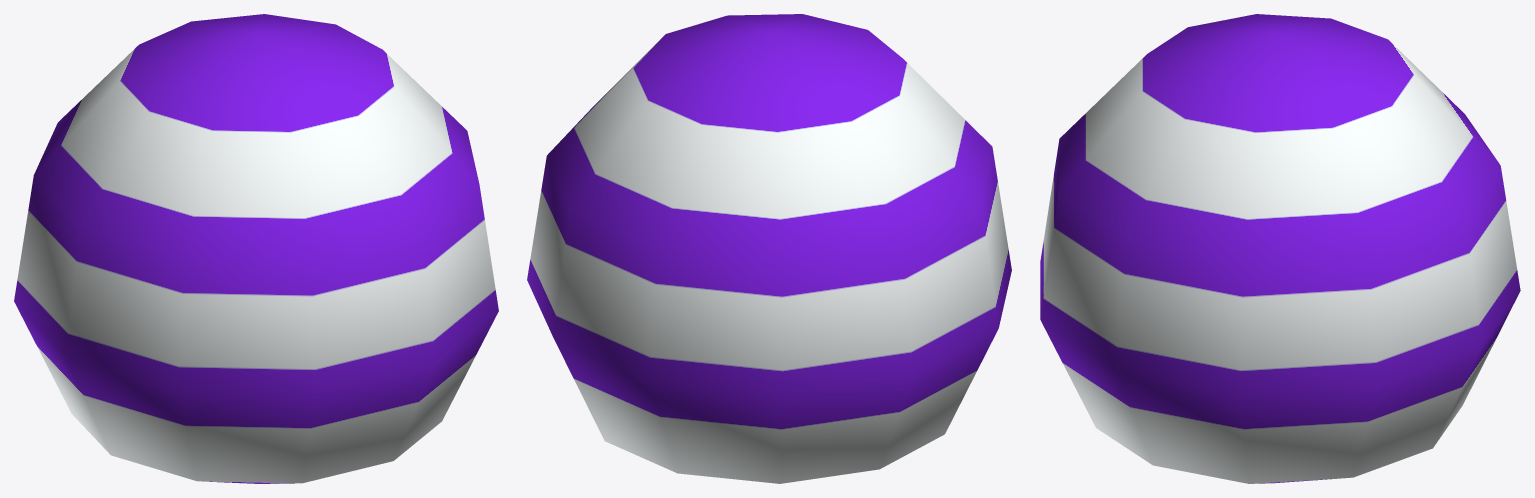
File: Bullets_01.FBX
3 renders of one model, left to right at view 1: azimuth 30°, elevation 25°; view 2: azimuth 150°, elevation 25°; view 3: azimuth 270°, elevation 25°, orthographic.
Parts seen in each view (by area): view 1: Bullets_01; view 2: Bullets_01; view 3: Bullets_01.
Part boxes in pixels (x1,y1,x2,y2): Bullets_01: (14, 14, 498, 483); Bullets_01: (527, 14, 1011, 483); Bullets_01: (1040, 14, 1520, 483).
Size of the model in its own units: 737 by 753 by 730.
